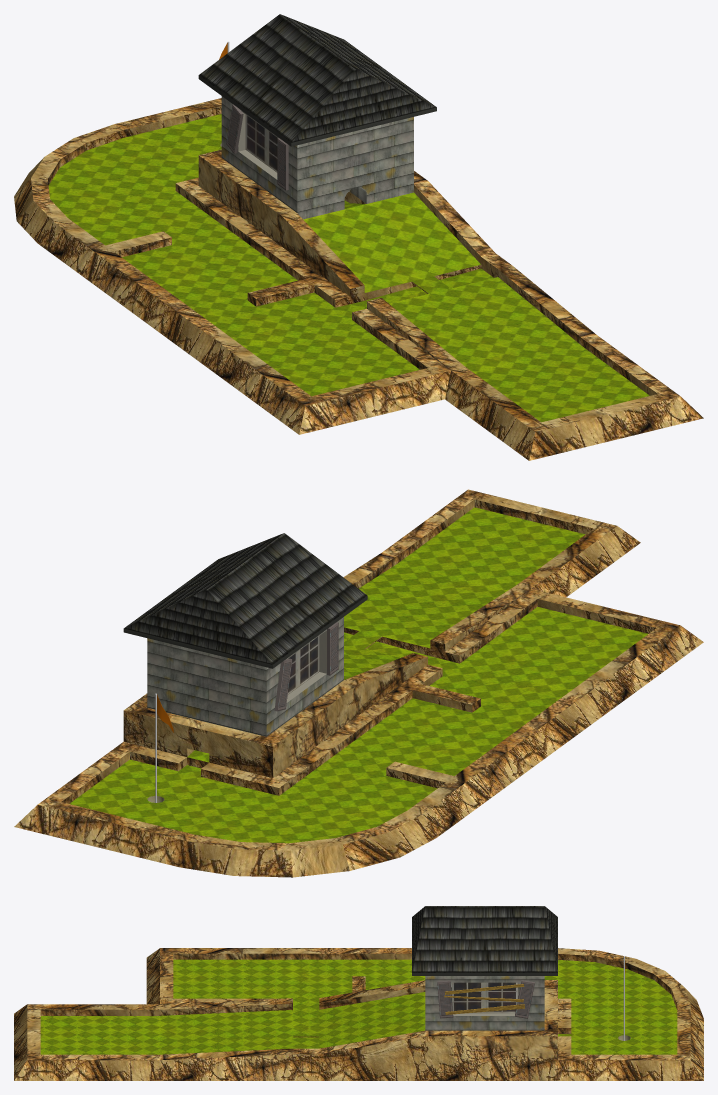
File: course3_hole17.fbx
3 views of the same model, one above another, from view 1: azimuth 30°, elevation 25°; view 2: azimuth 150°, elevation 25°; view 3: azimuth 270°, elevation 25° (orthographic). The views are drawn at different scales.
Visible parts, largest first — view 1: course3_hole17_ground, course3_hole17_walls, course3_hole17_house; view 2: course3_hole17_walls, course3_hole17_ground, course3_hole17_house; view 3: course3_hole17_walls, course3_hole17_ground, course3_hole17_house.
Part boxes in pixels (x1,y1,x2,y2): course3_hole17_ground: (48,114,649,422); course3_hole17_walls: (14,98,703,460); course3_hole17_house: (198,14,436,219); course3_hole17_walls: (14,489,703,877); course3_hole17_ground: (69,507,648,843); course3_hole17_house: (123,533,367,736); course3_hole17_walls: (14,948,703,1080); course3_hole17_ground: (40,959,677,1054); course3_hole17_house: (412,906,557,1030).
Bounding box in the file's own units: 220 × 118 × 520.
